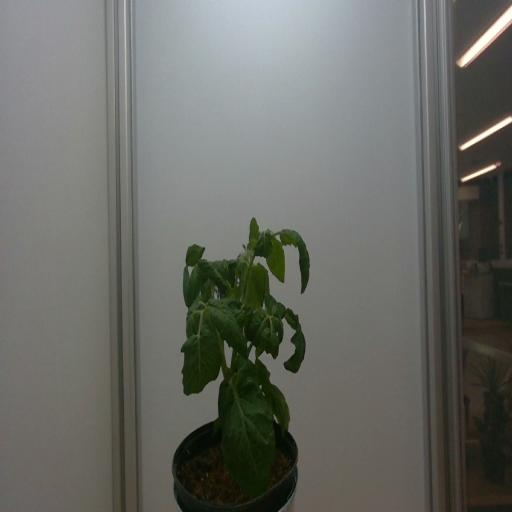Tomato-Leaves-Cupboard-: (219, 386, 275, 497), (178, 328, 222, 395), (284, 226, 322, 296), (284, 311, 310, 378), (204, 308, 242, 346), (264, 231, 288, 288), (204, 254, 236, 292), (268, 382, 290, 433), (179, 242, 205, 266), (251, 265, 266, 305), (254, 229, 273, 258), (189, 261, 202, 301), (182, 306, 202, 332), (246, 310, 264, 336), (230, 299, 251, 321), (264, 295, 285, 315), (254, 361, 272, 384), (268, 331, 281, 361), (178, 270, 189, 305), (244, 218, 258, 245), (256, 331, 266, 359), (267, 312, 282, 328)
